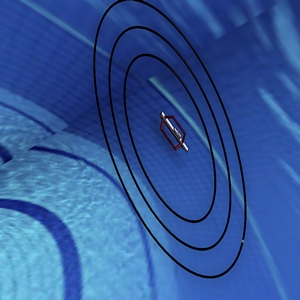circle: (85, 1, 262, 293)
submarine: (148, 99, 194, 166)
